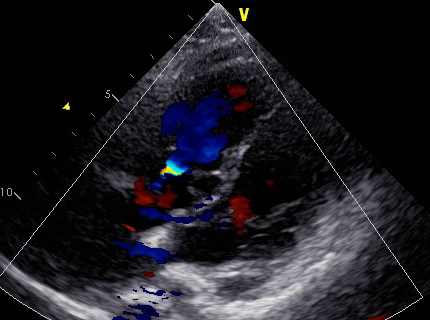TR: (123, 151, 206, 228)
